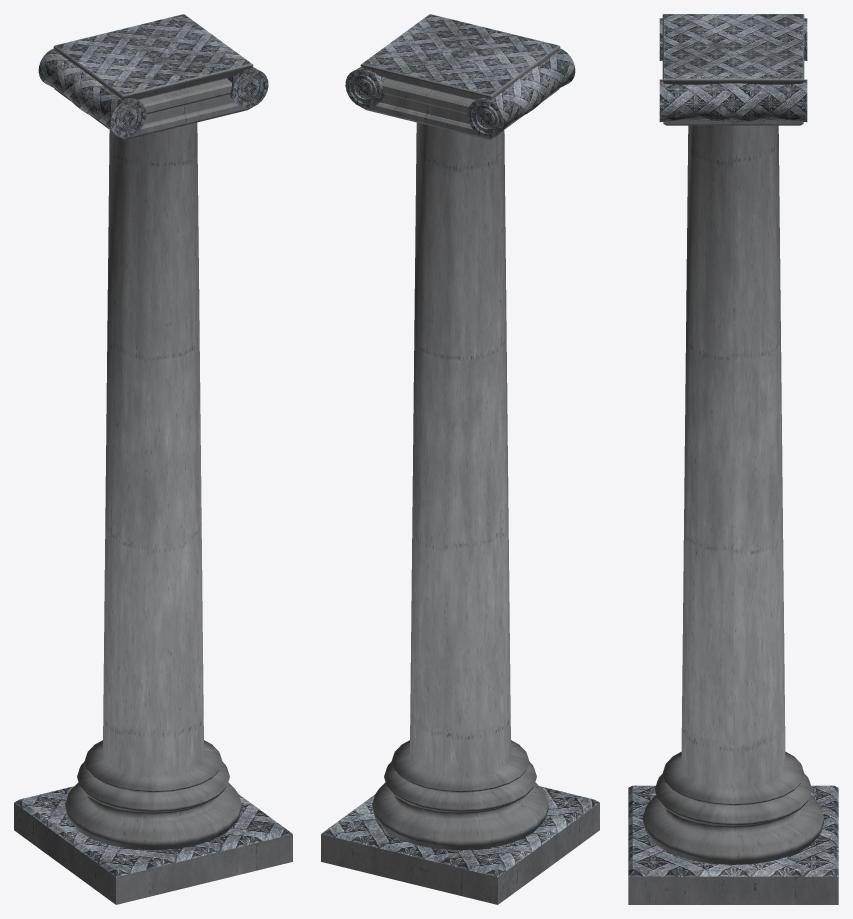
File: SM_Temple_Column.fbx
3 renders of one model, left to right at view 1: azimuth 30°, elevation 25°; view 2: azimuth 150°, elevation 25°; view 3: azimuth 270°, elevation 25°, orthographic. The views are drawn at different scales.
Visible parts, largest first — view 1: SM_Temple_Column; view 2: SM_Temple_Column; view 3: SM_Temple_Column.
Boxes of the visible parts, <box> form: SM_Temple_Column: <box>14,14,292,904</box>; SM_Temple_Column: <box>321,14,599,904</box>; SM_Temple_Column: <box>628,14,838,904</box>.
Bounding box in the file's own units: 184 × 786 × 184.
